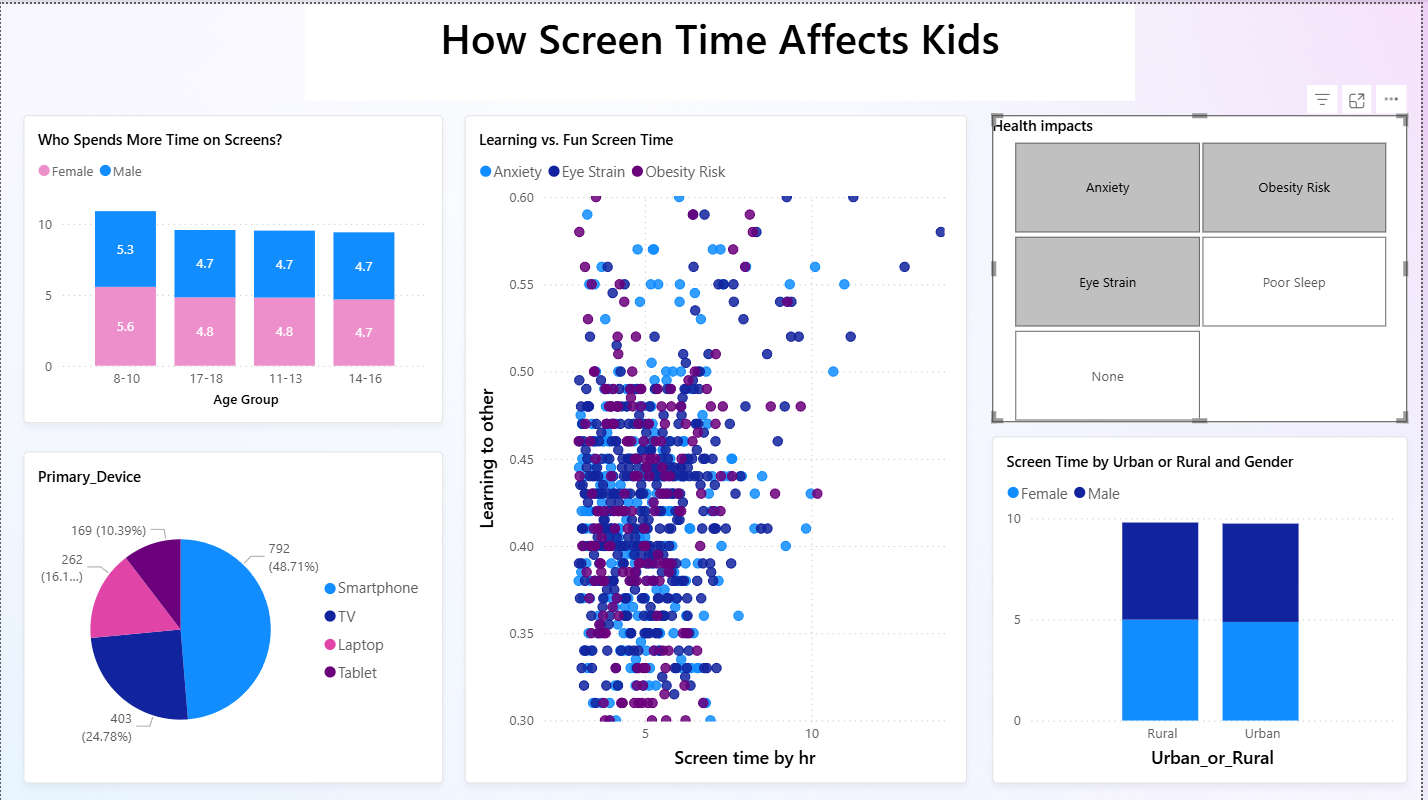

What the dashboard file says about the page in this screenshot:
{"tool":"powerbi","page":{"name":"Page 1","canvas":[1280,720],"ordinal":0},"visuals":[{"type":"columnChart","title":"Who Spends More Time on Screens?","fields":{"Category":["Indian_Kids_Screen_Time.Age Group"],"Y":["Indian_Kids_Screen_Time.Avg Screen Time"],"Series":["Indian_Kids_Screen_Time.Gender"]},"box":[20.3,100.3,378.7,277.3],"z":0},{"type":"pieChart","title":"Primary_Device","fields":{"Category":["Indian_Kids_Screen_Time.Primary_Device"],"Y":["CountNonNull(Indian_Kids_Screen_Time.Primary_Device)"]},"box":[20.6,403.4,378.7,299.1],"z":1000},{"type":"scatterChart","title":"Learning vs. Fun Screen Time","fields":{"X":["Indian_Kids_Screen_Time.Avg_Daily_Screen_Time_hr"],"Y":["Median(Indian_Kids_Screen_Time.Educational_to_Recreational_Ratio)"],"Series":["Indian_Kids_Screen_Time.Health_Impacts.1"]},"box":[418.5,100.2,452.8,602.4],"z":2000},{"type":"columnChart","title":"Screen Time by Urban or Rural and Gender","fields":{"Category":["Indian_Kids_Screen_Time.Urban_or_Rural"],"Y":["Indian_Kids_Screen_Time.Avg Screen Time"],"Series":["Indian_Kids_Screen_Time.Gender"]},"box":[893.3,389.7,374.6,312.9],"z":3000},{"type":"textbox","box":[274,0,748.9,86.8],"z":4000},{"type":"slicer","title":"Health impacts","fields":{"Values":["Indian_Kids_Screen_Time.Health_Impacts.1"]},"box":[893.6,100.4,374.5,277.4],"z":5000}]}

Visuals, with their boxes on the page's 1280x720 design canvas (x1, y1, x2, y2). These are canvas units, not pixel positions in the 1428x800 screenshot, which may show the page scaled, cropped or inside an application window:
"Who Spends More Time on Screens?" columnChart: bbox=(20, 100, 399, 378)
"Primary_Device" pieChart: bbox=(21, 403, 399, 702)
"Learning vs. Fun Screen Time" scatterChart: bbox=(418, 100, 871, 703)
"Screen Time by Urban or Rural and Gender" columnChart: bbox=(893, 390, 1268, 703)
textbox: bbox=(274, 0, 1023, 87)
"Health impacts" slicer: bbox=(894, 100, 1268, 378)
